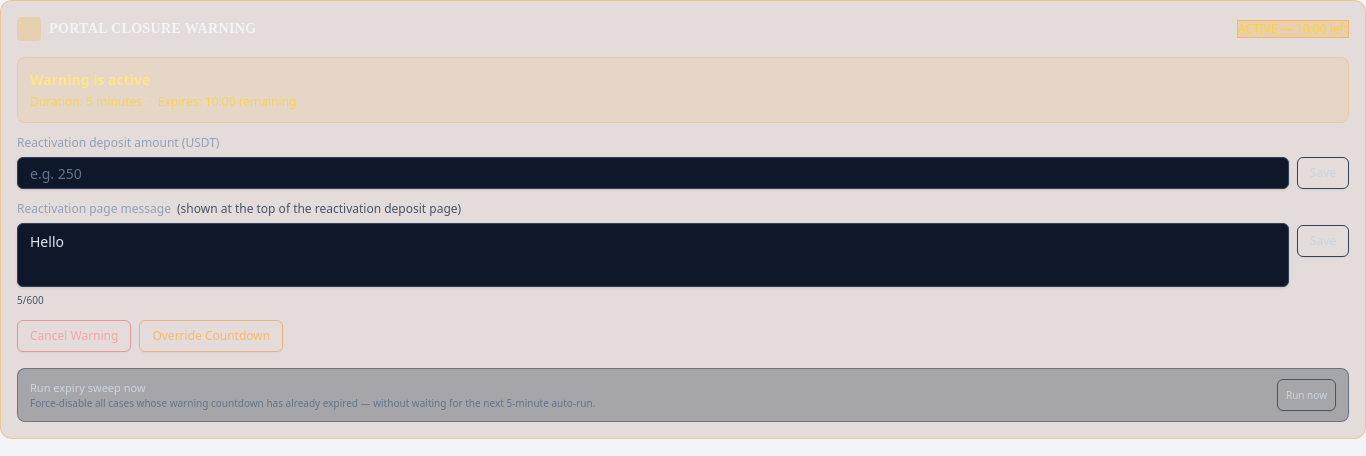
Test case: AdminPortalWarningPanel — reactivation page message in active state › (w) character counter reflects the current length and updates as the user types
Check: the text with test id "char-count-reactivation-page-message" reads "5/600", box [17, 293, 44, 307]
Replace the text in the text box with test id "input-reactivation-page-message" with "Hello, world!" at [653, 255], box [17, 223, 1289, 287]
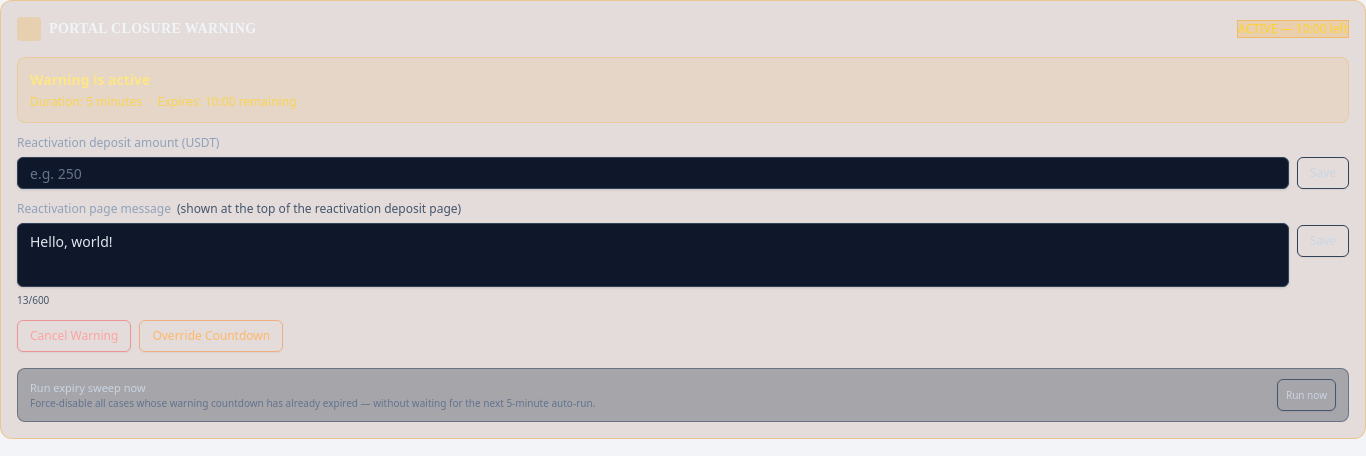
Check: the text with test id "char-count-reactivation-page-message" reads "13/600", box [17, 293, 49, 307]
